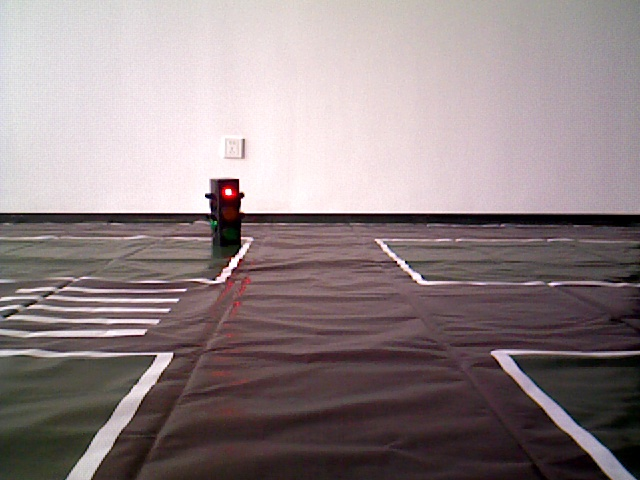red: (213, 180, 238, 245)
